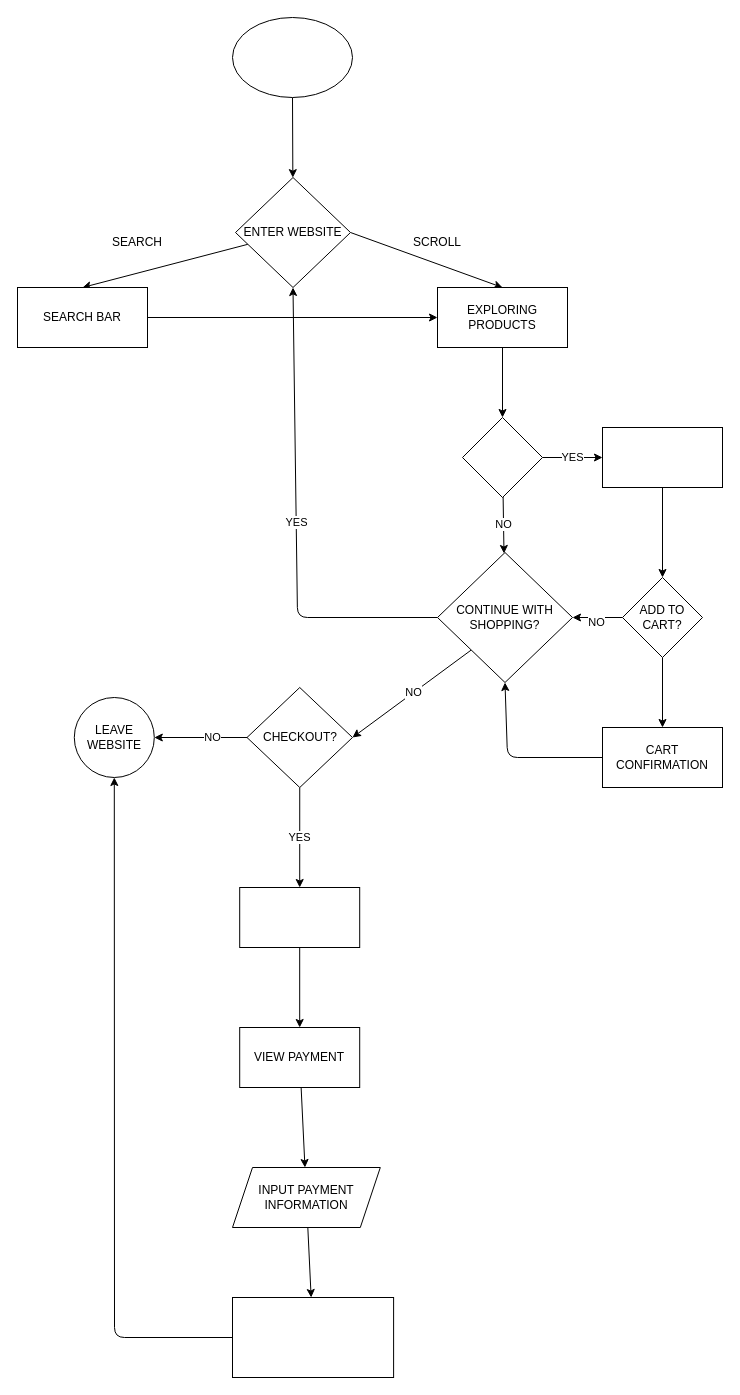
The diagram is 740 pixels wide and 1395 high, and some of its shapes have lost their labels. Here are the shapes that lost their labels. From the top down, the box of each, then its label:
(232, 16, 352, 98): START
(462, 416, 542, 498): VIEW SPECIFIC PRODUCT
(602, 426, 722, 488): IITEM SPECIFIC VIEW
(239, 886, 360, 948): VIEW CART
(232, 1296, 394, 1378): CONFIRMATION SCREEN + SEND EMAIL
